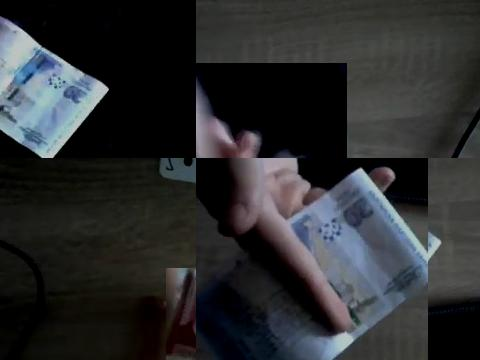20leva: (196, 158, 428, 360), (0, 16, 109, 158)
